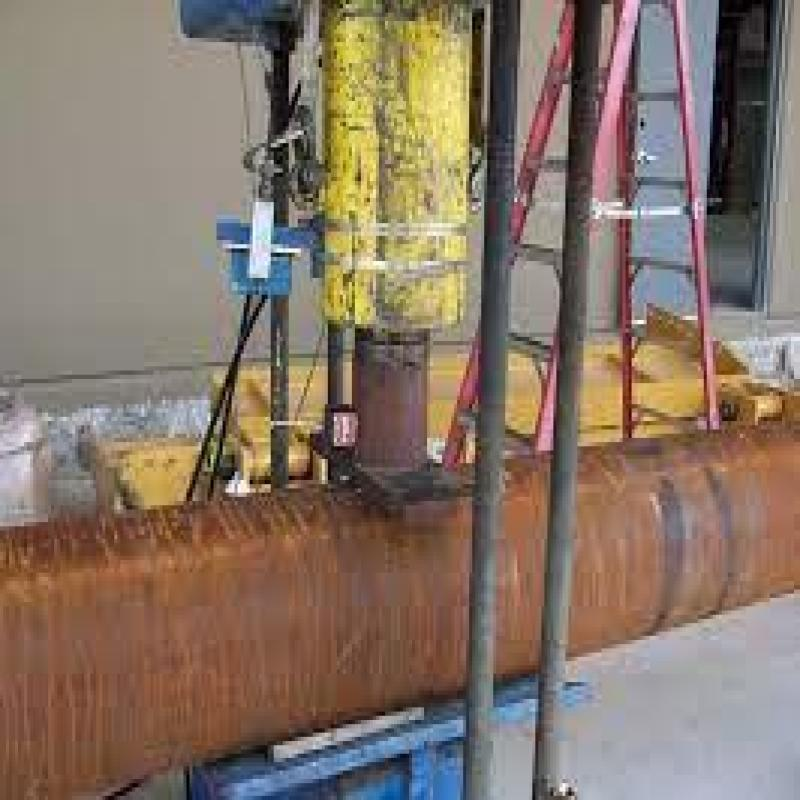corrosion: (7, 402, 800, 721)
